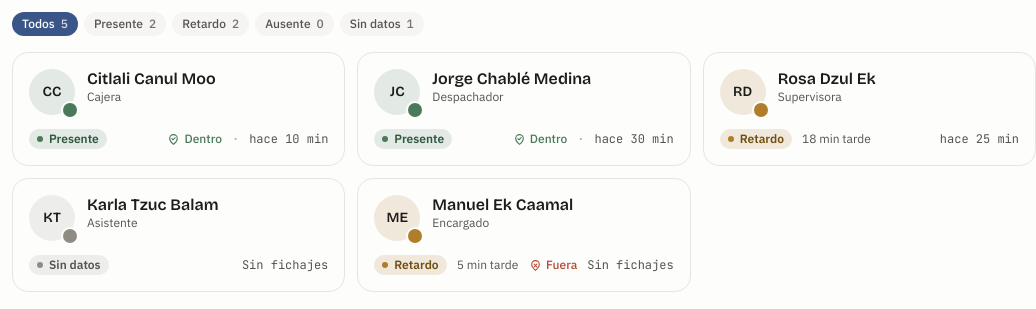
Test: TeamStatusBoard › filtro sin resultados muestra mensaje positivo, no error
Clic en "Ausente" que tiene 0 resultados.
Click the button "Ausente 0" at (294, 24), box [255, 12, 334, 36]
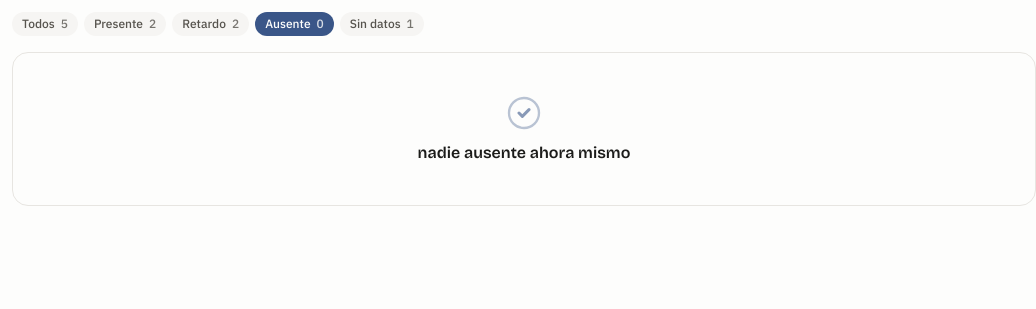
Expected: the text "nadie ausente ahora mismo" is shown, [418, 141, 630, 165]
